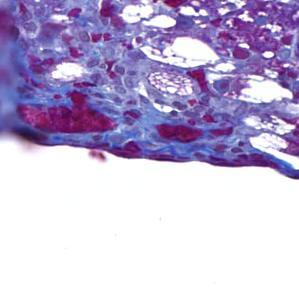ballooning: (205, 68, 294, 108), (141, 35, 220, 70)
